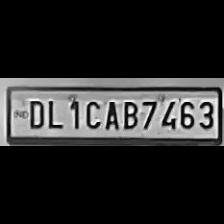1: (64, 97, 82, 129)
3: (196, 97, 216, 128)
4: (156, 99, 176, 129)
6: (177, 99, 195, 129)
7: (139, 98, 157, 130)
A: (101, 98, 119, 130)
B: (118, 99, 140, 129)
C: (82, 97, 102, 128)
D: (24, 97, 46, 128)
L: (44, 97, 64, 129)
